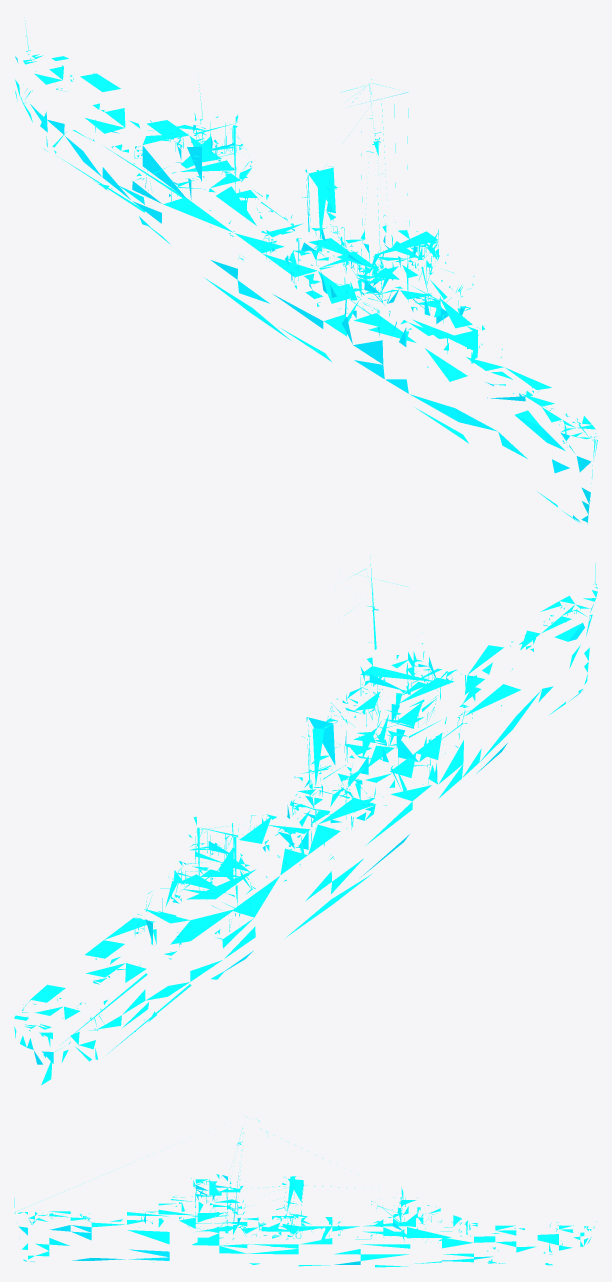
The model's file is Somers.glb.
The picture shows the model from 3 angles, top to bottom: view 1: azimuth 30°, elevation 25°; view 2: azimuth 150°, elevation 25°; view 3: azimuth 270°, elevation 25°; orthographic projection. The views are drawn at different scales.
Size of the model in its own units: 0.9639 by 2.18 by 7.8.
